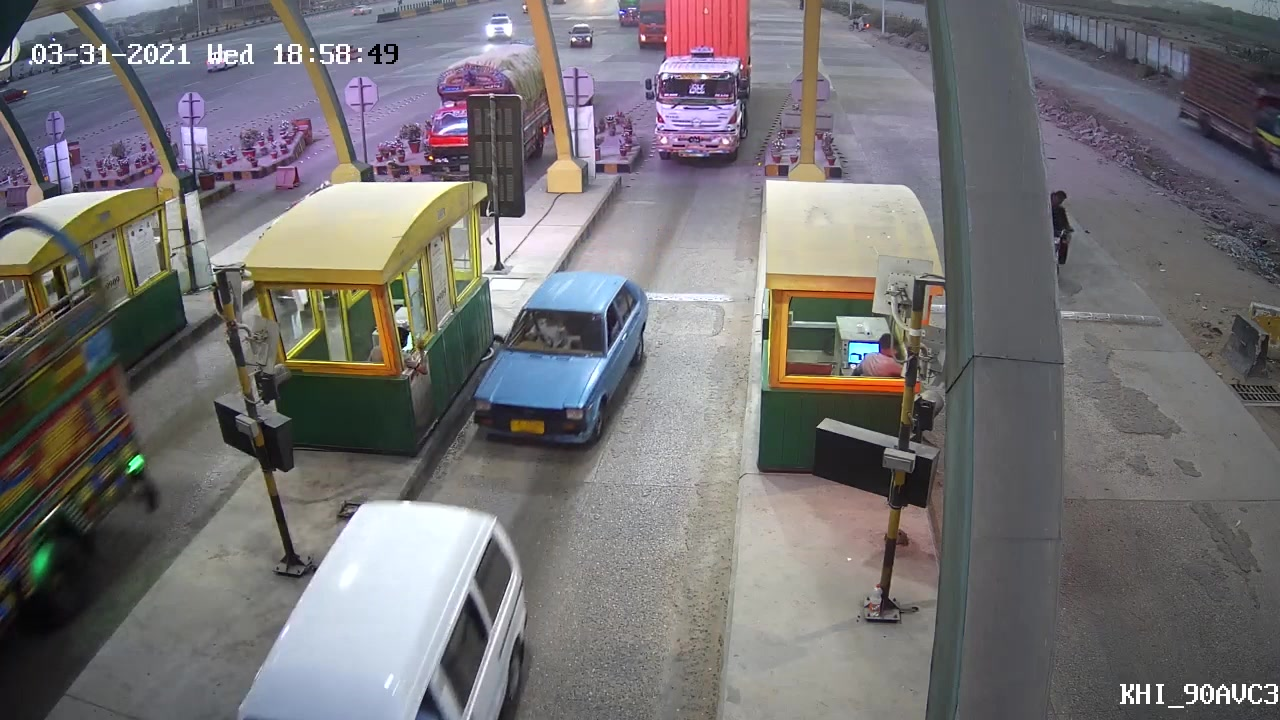F1: (461, 270, 653, 448)
